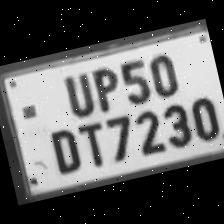0: (182, 88, 224, 144), (140, 46, 182, 100)
2: (126, 104, 166, 158)
3: (156, 98, 195, 150)
5: (112, 52, 152, 106)
7: (97, 108, 138, 164)
D: (42, 120, 86, 176)
P: (85, 60, 125, 114)
T: (72, 116, 112, 171)
U: (55, 65, 98, 119)
